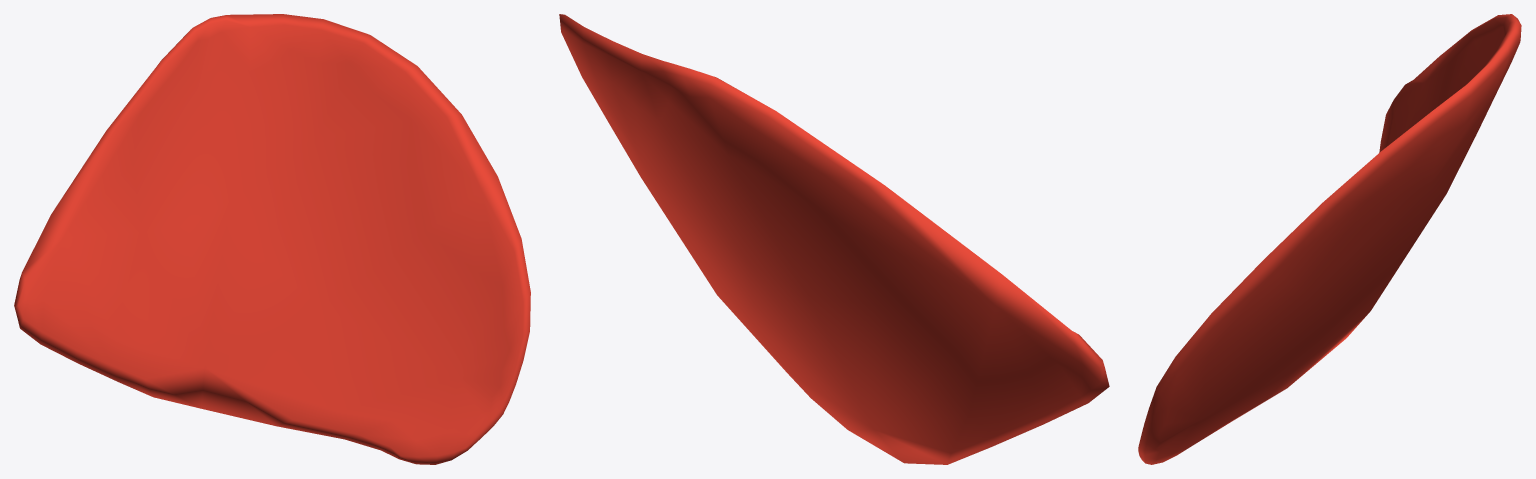
The model's file is Biceps_femoris_long_head_ischiatic_insertion_left.glb.
3 views of the same model, side by side, from view 1: azimuth 30°, elevation 25°; view 2: azimuth 150°, elevation 25°; view 3: azimuth 270°, elevation 25° (orthographic). The views are drawn at different scales.
Parts seen in each view (by area): view 1: Long_head_of_biceps_femoris_muscle-Ischiatic_insertion.l_Gen; view 2: Long_head_of_biceps_femoris_muscle-Ischiatic_insertion.l_Gen; view 3: Long_head_of_biceps_femoris_muscle-Ischiatic_insertion.l_Gen.
Boxes of the visible parts, x1,y1,x2,y2 form: Long_head_of_biceps_femoris_muscle-Ischiatic_insertion.l_Gen: (14, 14, 530, 464); Long_head_of_biceps_femoris_muscle-Ischiatic_insertion.l_Gen: (559, 14, 1109, 464); Long_head_of_biceps_femoris_muscle-Ischiatic_insertion.l_Gen: (1138, 14, 1521, 464).
Bounding box in the file's own units: 0.0159 × 0.0125 × 0.0108.
